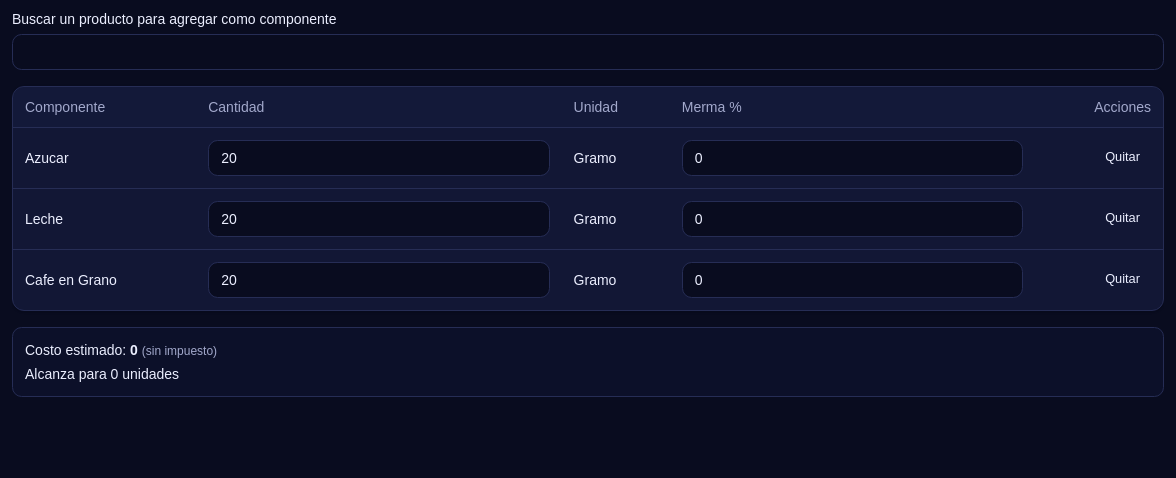
CompositionTab — el error se pinta sobre la fila › corregir el campo borra su error: no se queda en rojo con el valor ya arreglado
Type "5" into the number field named "Cantidad de «Cafe en Grano»" at (379, 280), box [208, 262, 550, 298]
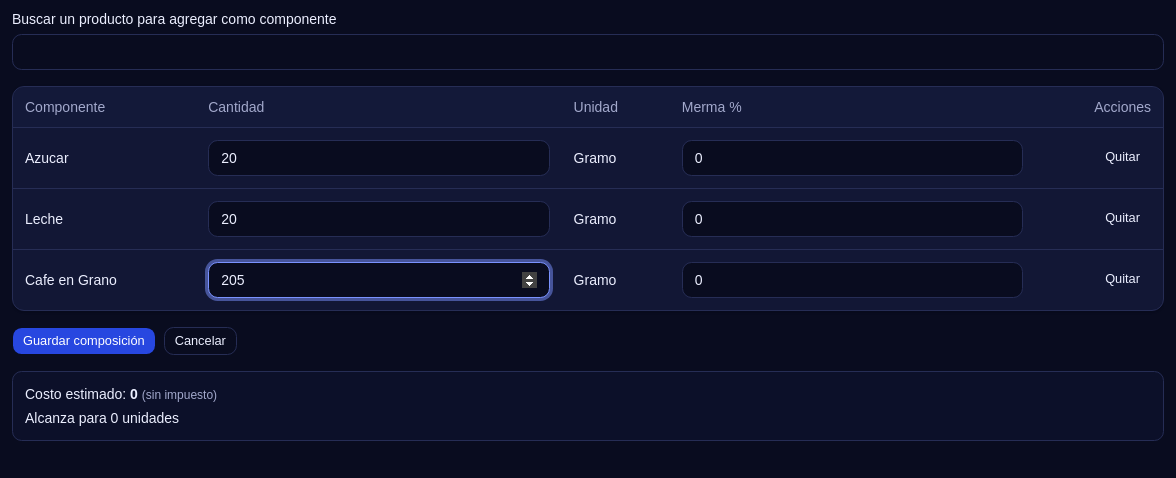
Click the button "Guardar composición" at (84, 340), box [12, 326, 156, 354]
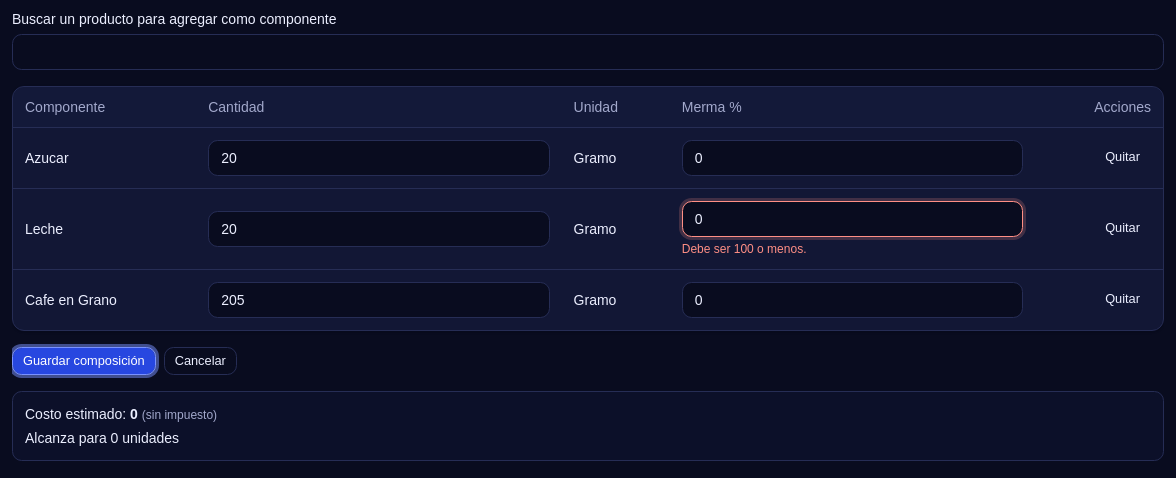
Clear the number field named "Merma de «Leche»" at (852, 218), box [682, 200, 1023, 236]
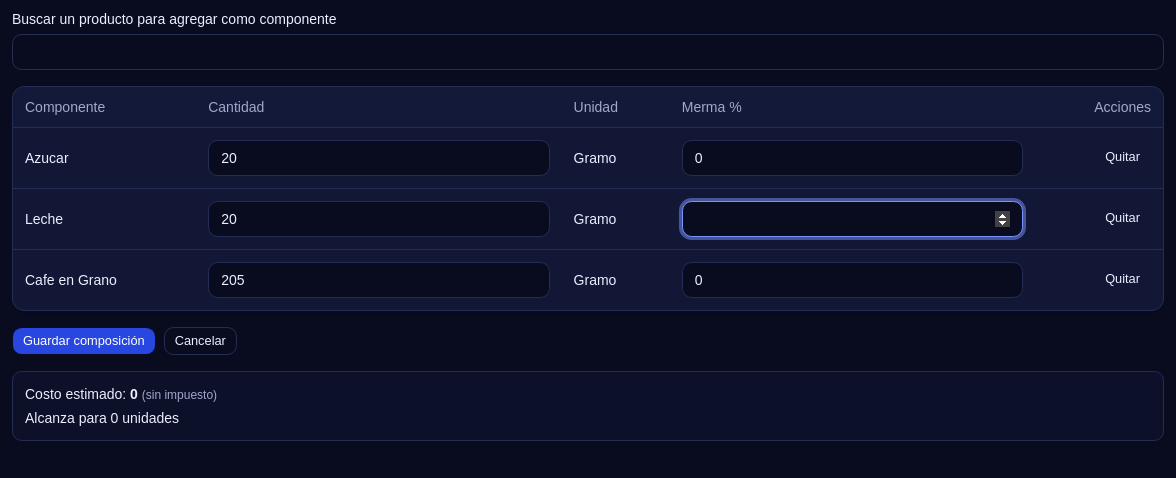
expect the text "Debe ser 100 o menos." is gone: met
